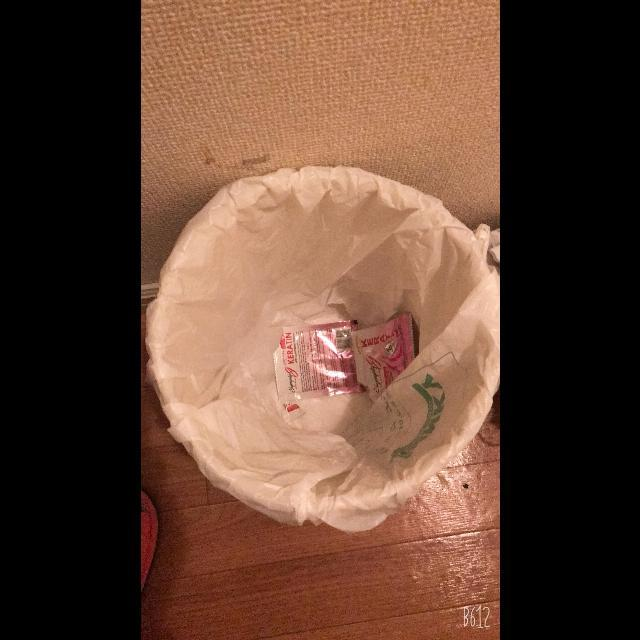wrapper: (272, 320, 366, 401), (351, 313, 415, 403)
